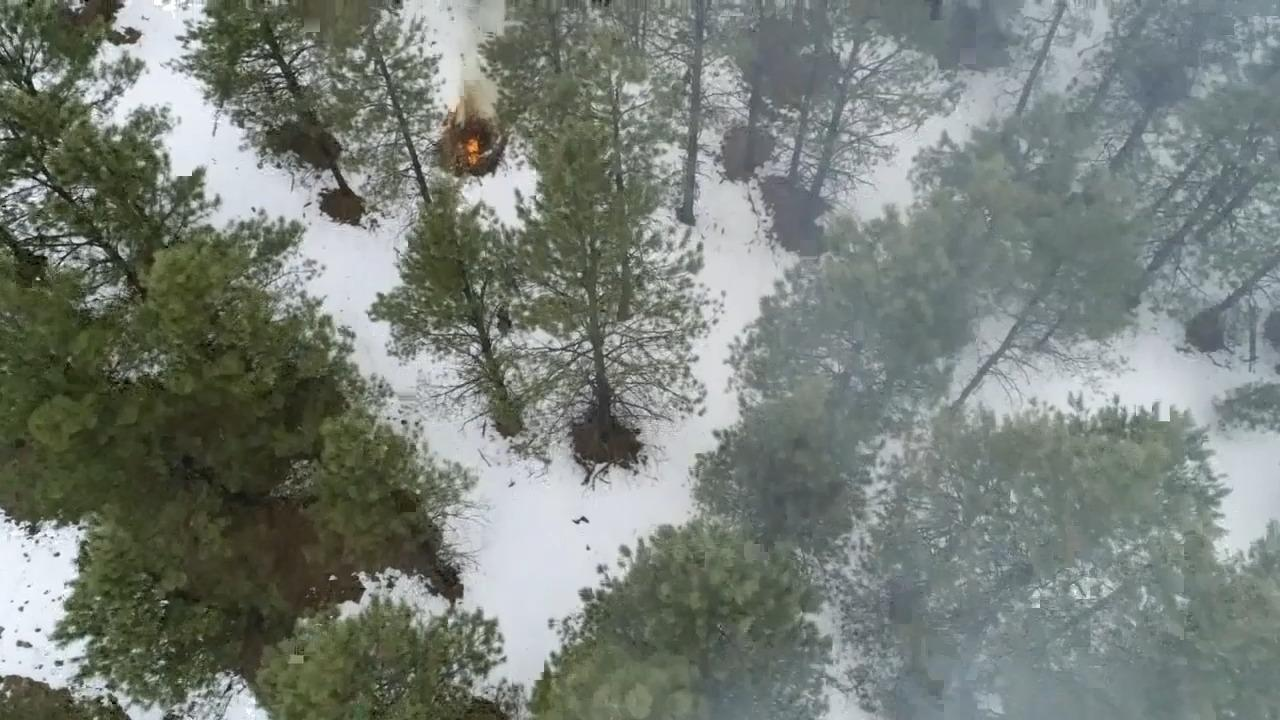fire: (453, 129, 488, 171)
